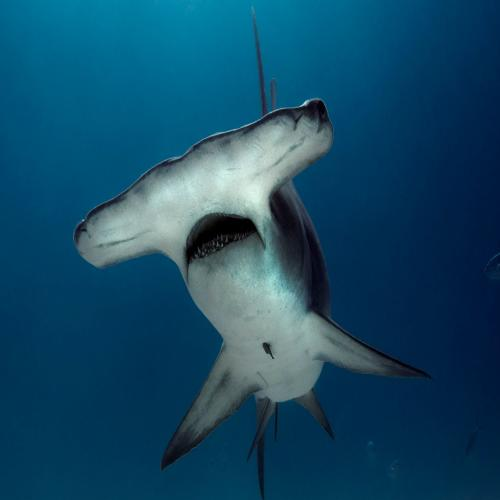shark-endangered: (76, 96, 432, 491)
